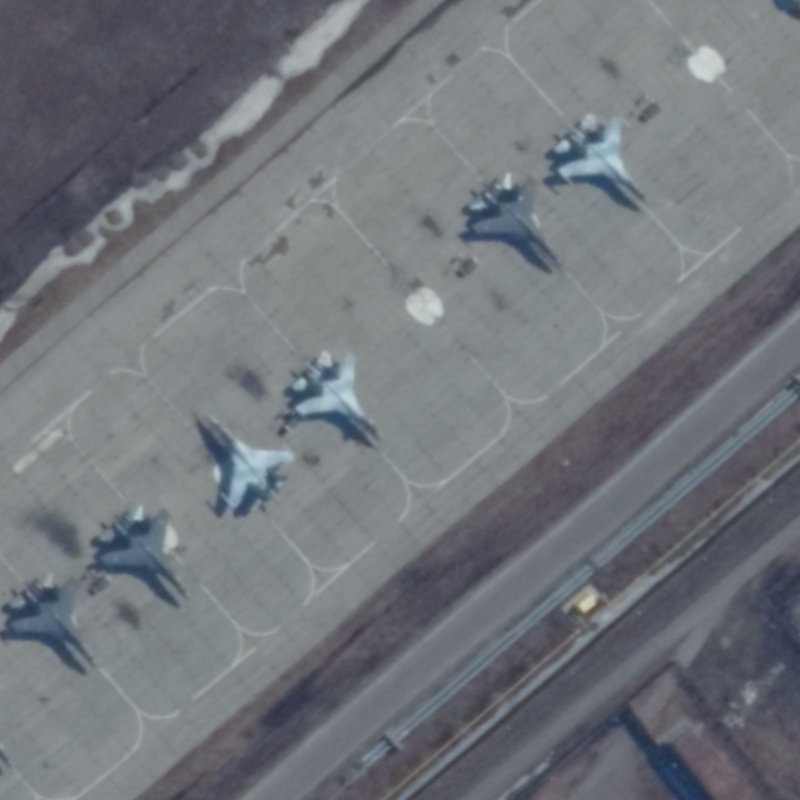A1: (463, 171, 568, 273), (5, 568, 104, 675), (93, 502, 194, 604), (286, 347, 387, 444), (551, 111, 653, 205), (204, 412, 296, 511)
